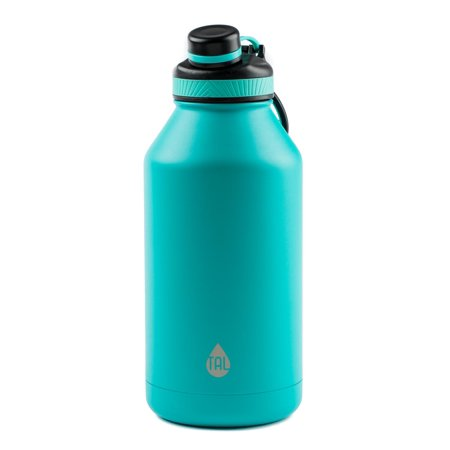Rec_Plastic: (94, 32, 333, 421)
